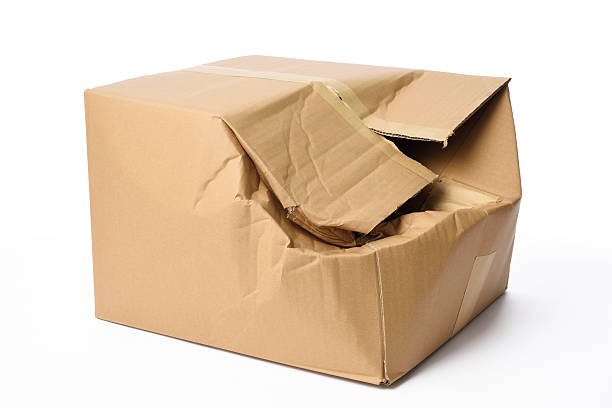damaged package: (227, 131, 489, 244), (336, 64, 507, 145), (464, 106, 529, 210)
